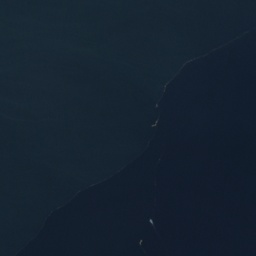Marine Debris: (154, 26, 256, 110), (149, 115, 161, 130)
Ship: (43, 136, 154, 224), (151, 221, 153, 223)
